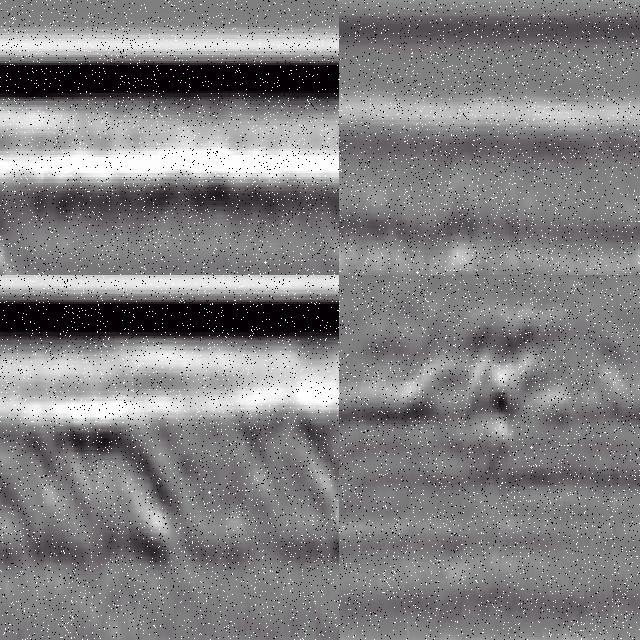crack: (443, 174, 473, 276)
loose: (1, 398, 340, 562), (392, 304, 620, 474), (1, 176, 56, 276)
